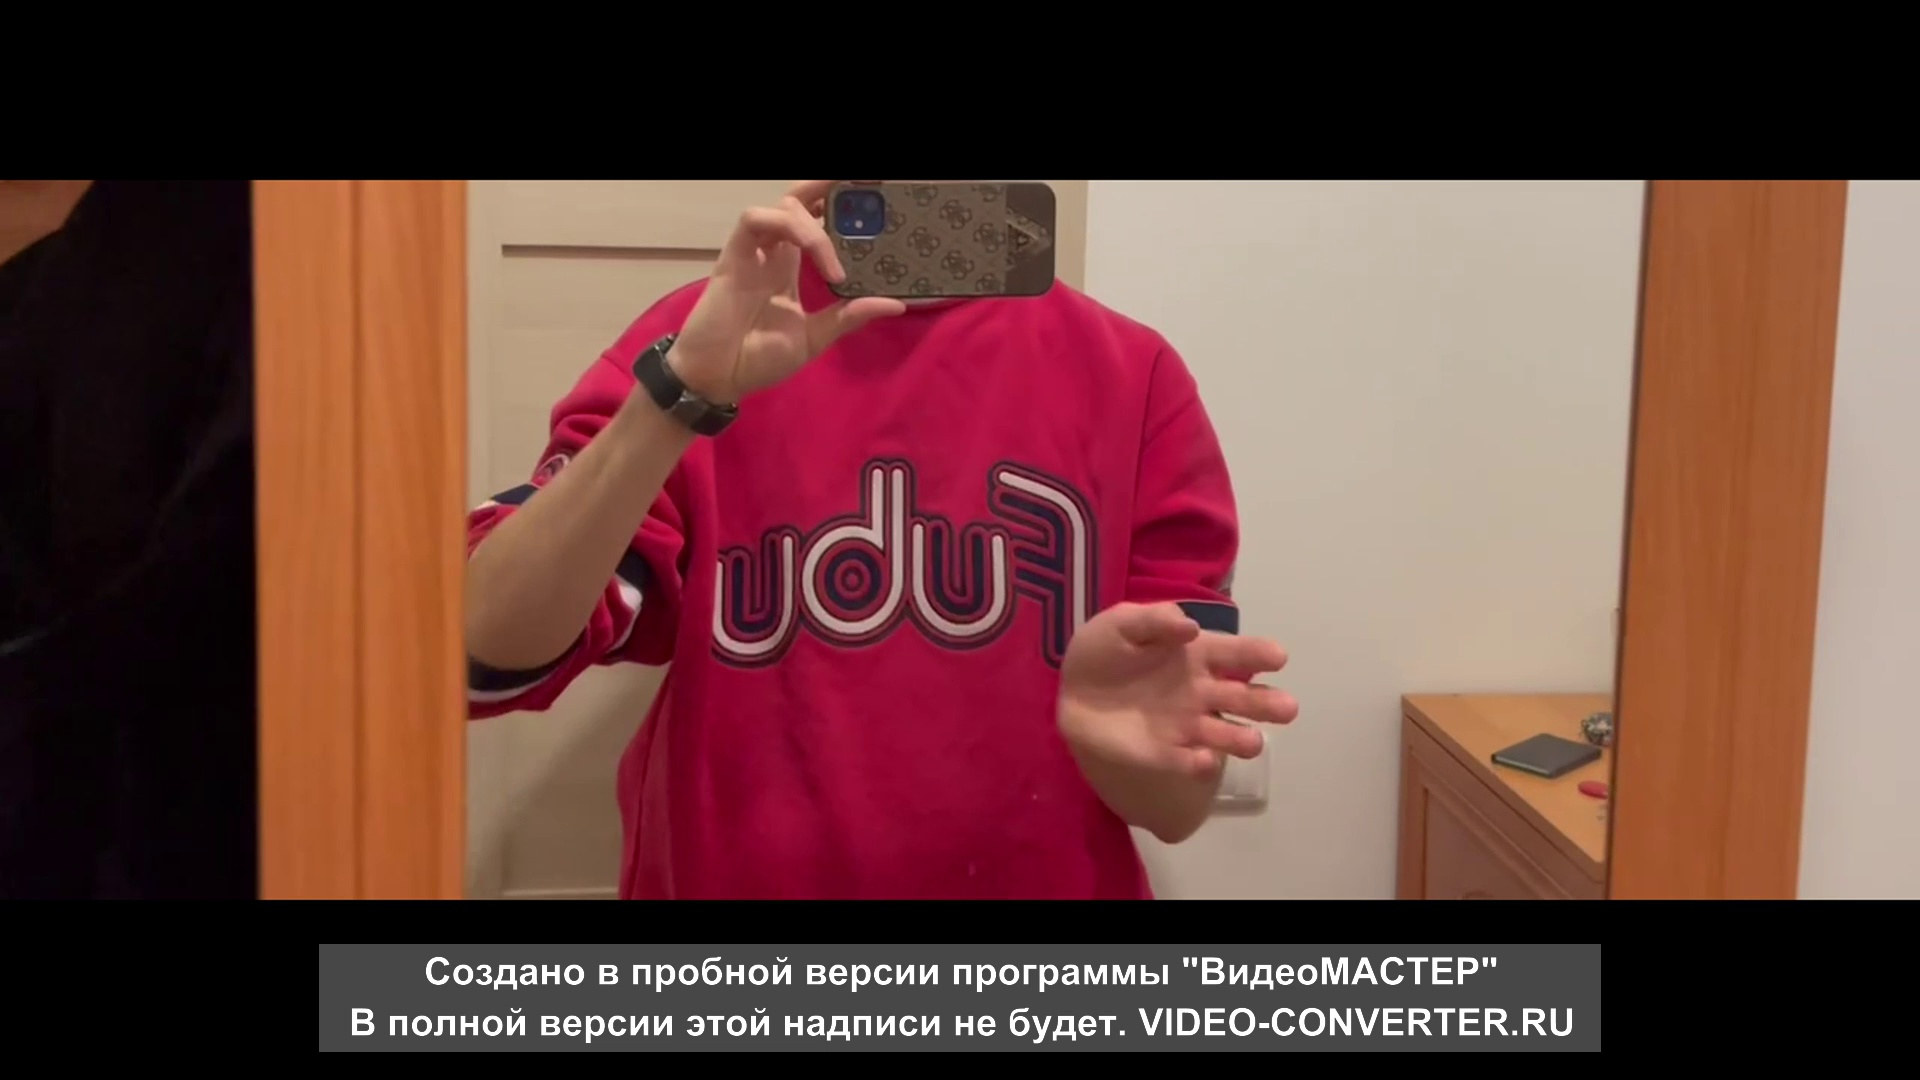Ладонь: (1064, 600, 1296, 782)
